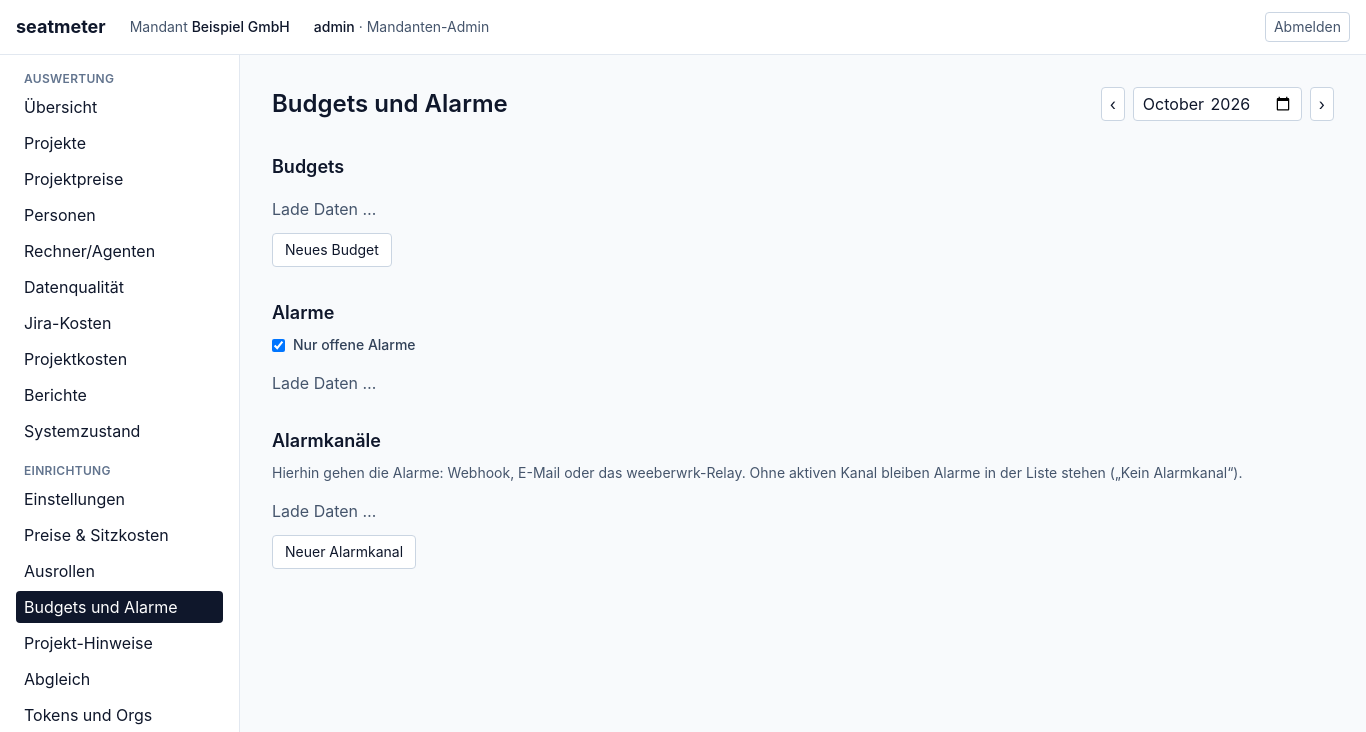
Test case: Budgets: anlegen, bearbeiten, löschen › prüft Eingaben vorab und sendet nichts bei ungültigem Betrag
This screenshot has width=1366, height=732.
Click the button "Neues Budget". click: (332, 250)
box: [272,233,392,267]
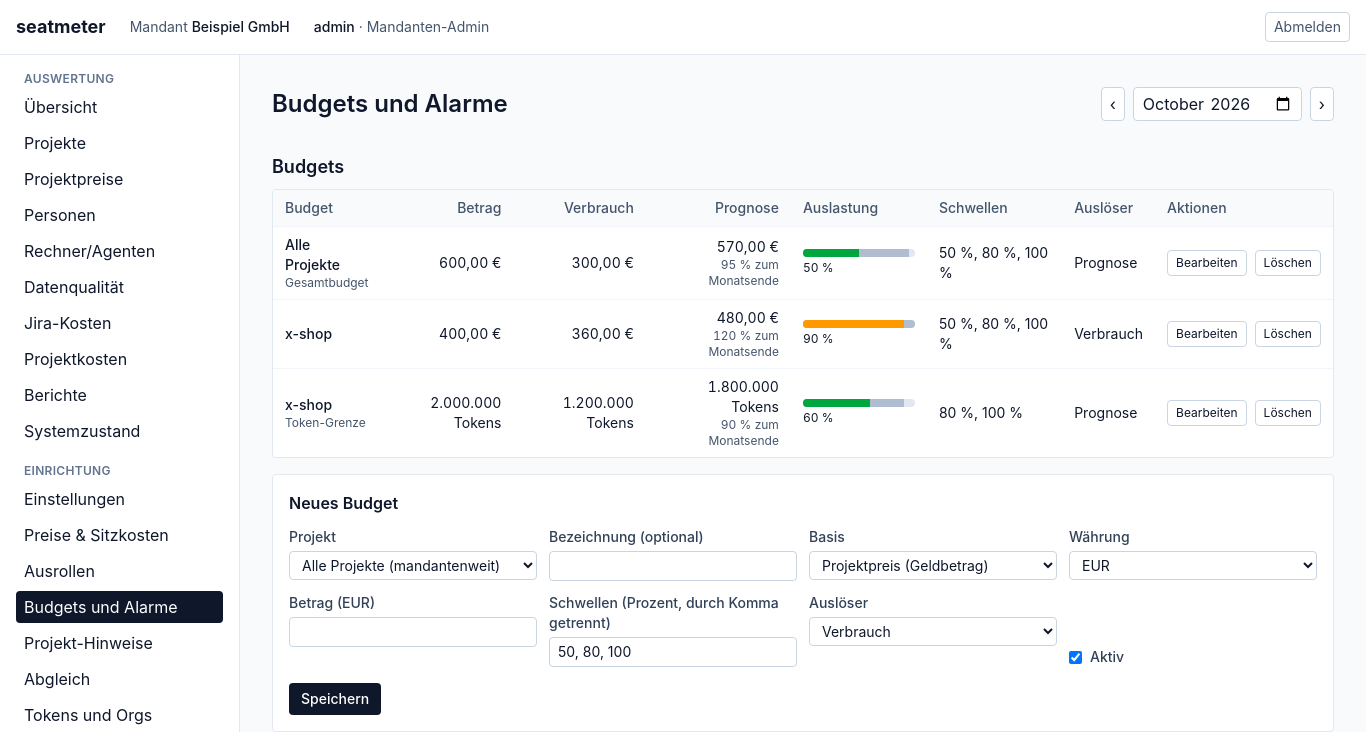
Click the button "Speichern". click: (335, 699)
box: [289,683,381,715]
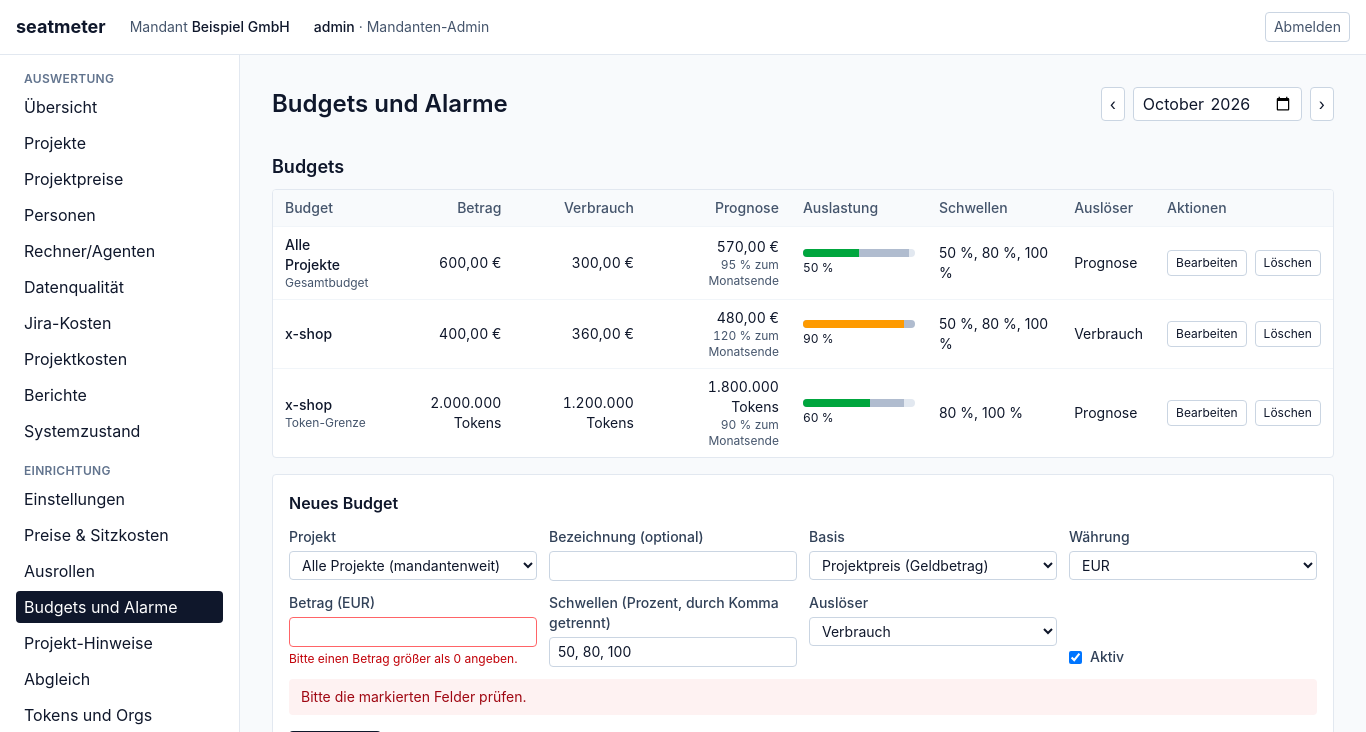
Expected: the text "Bitte die markierten Felder prüfen." is shown, [289,679,1317,715]
Expected: the text "Bitte einen Betrag größer als 0 angeben." is shown, [289,651,537,667]
